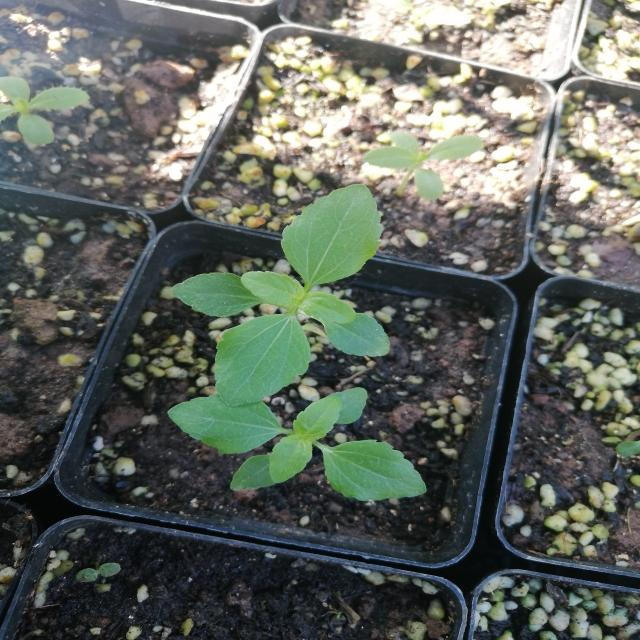billygoat_weed: (154, 181, 399, 398), (175, 384, 429, 512)
